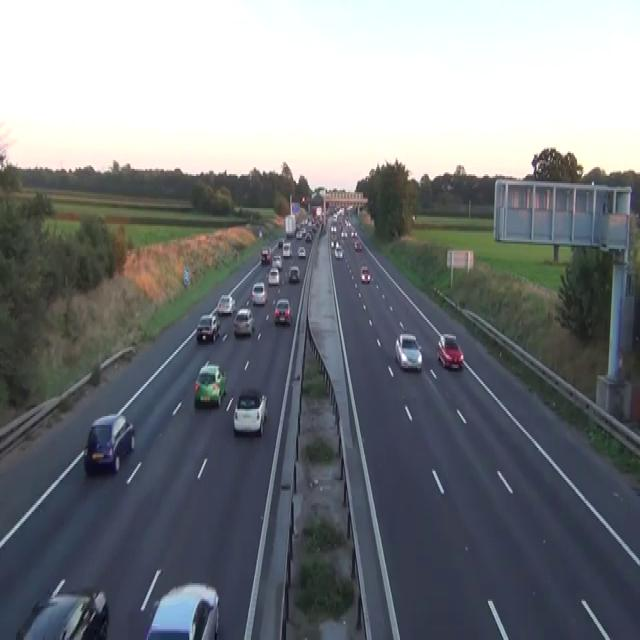Car: (15, 578, 108, 638), (145, 582, 219, 638), (83, 412, 135, 474), (233, 388, 267, 436), (193, 359, 226, 407), (394, 332, 422, 372), (437, 332, 464, 370), (196, 313, 220, 341), (233, 308, 255, 336), (273, 297, 291, 323), (217, 293, 235, 315), (251, 281, 267, 304), (267, 266, 279, 284), (288, 265, 300, 281), (210, 308, 220, 327), (360, 265, 370, 283), (272, 254, 282, 270), (334, 244, 344, 258), (282, 242, 292, 256), (297, 245, 306, 258), (354, 240, 362, 251), (295, 228, 303, 238), (305, 231, 312, 242), (330, 224, 337, 235), (446, 182, 454, 190), (344, 217, 350, 227), (340, 230, 347, 238), (277, 238, 283, 247), (350, 230, 357, 237), (332, 212, 337, 220), (330, 240, 334, 249), (301, 195, 306, 202), (258, 230, 262, 238)
Truck: (284, 214, 295, 236)
